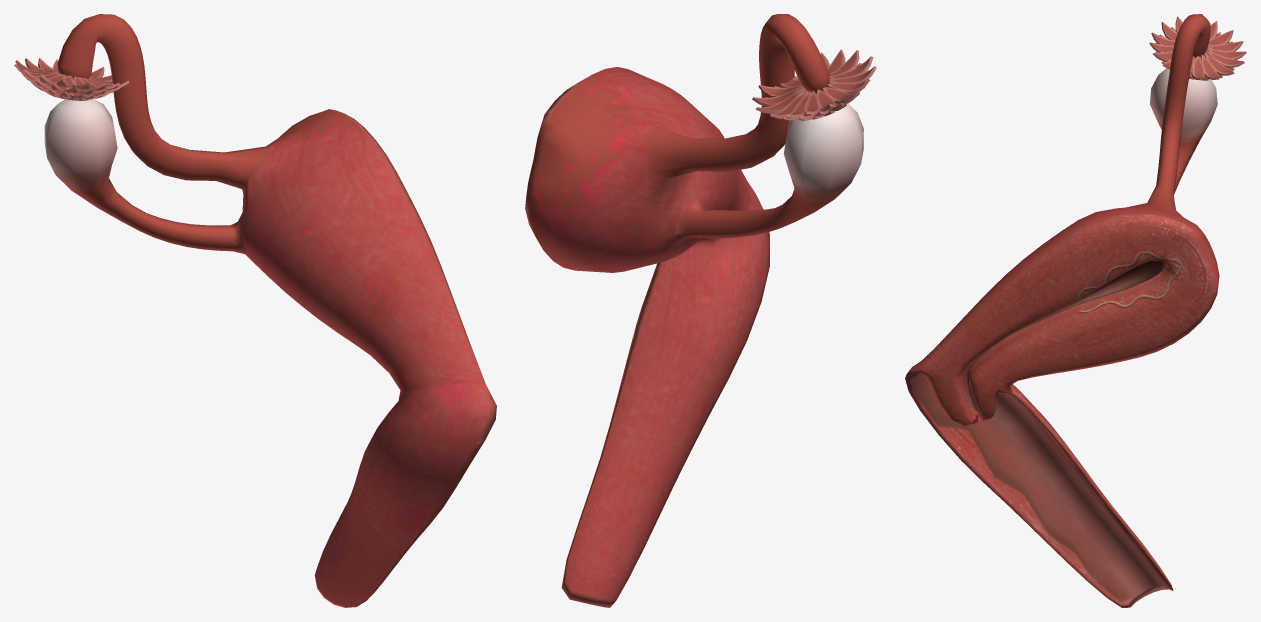
File: Uterus_cross section.fbx
The picture shows the model from 3 angles, left to right: view 1: azimuth 30°, elevation 25°; view 2: azimuth 150°, elevation 25°; view 3: azimuth 270°, elevation 25°; orthographic projection. The views are drawn at different scales.
Visible parts, largest first — view 1: Uterus_1; view 2: Uterus_1; view 3: Uterus_1.
Boxes of the visible parts, x1=… form: Uterus_1: x1=14, y1=14, x2=496, y2=607; Uterus_1: x1=525, y1=14, x2=876, y2=607; Uterus_1: x1=905, y1=14, x2=1246, y2=607.
Size of the model in its own units: 6.9 by 13.34 by 8.12.
Materials: 1 (1 with a texture image).
